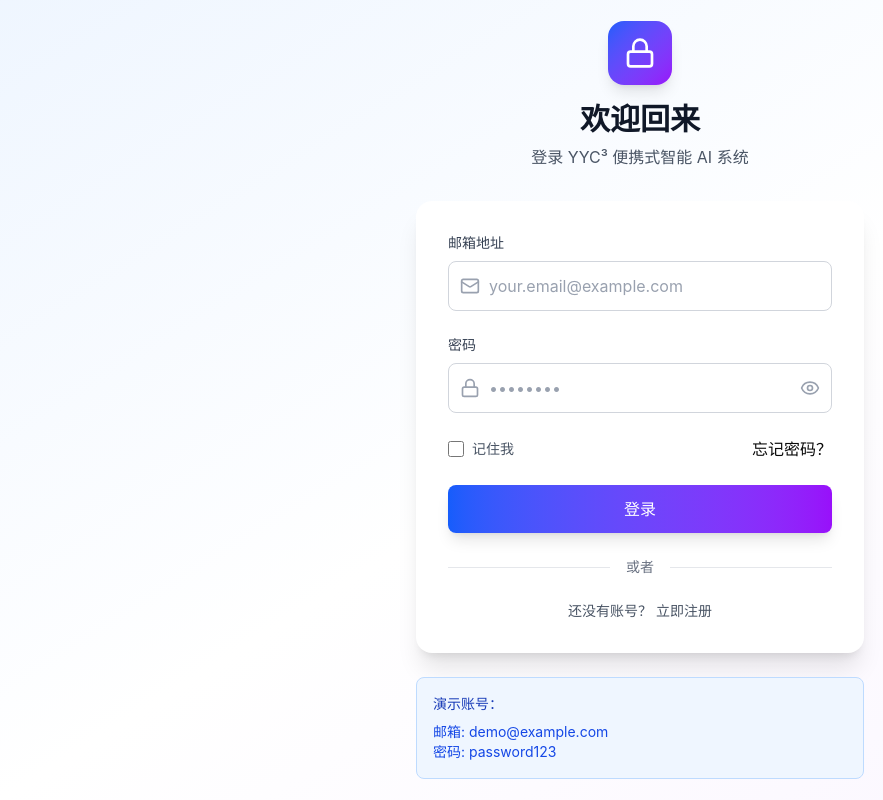
Test case: LoginPage › 应该验证密码长度
The width and height of the screenshot is (883, 800).
Type "demo@example.com" into the field with placeholder "your.email@example.com" at (640, 286), box [448, 261, 832, 311]
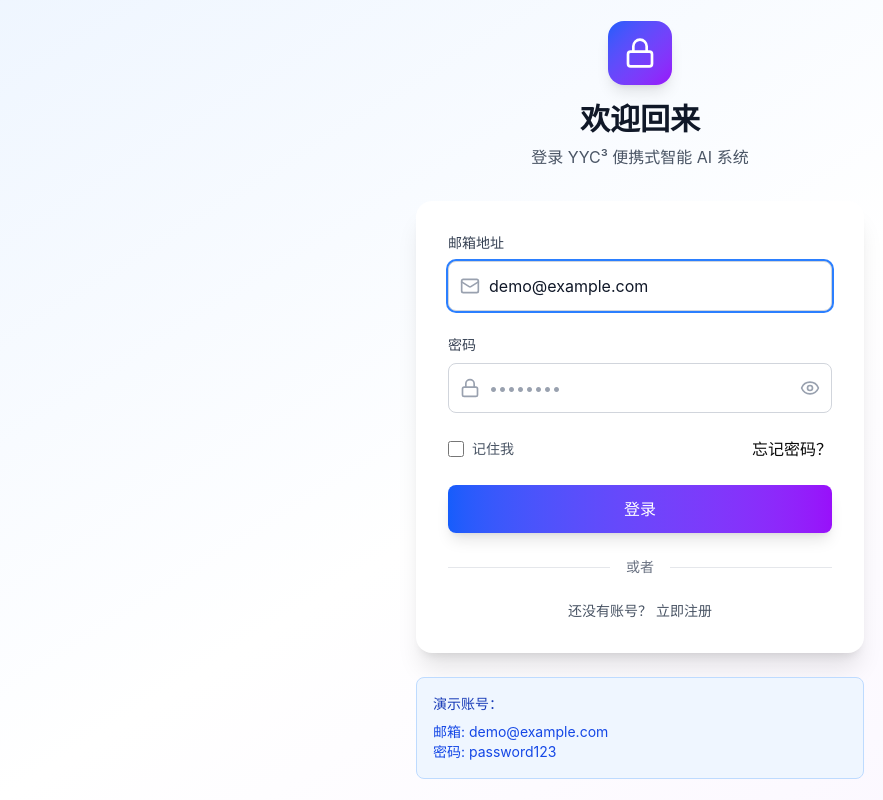
Type "12345" into the password field with placeholder "••••••••" at (640, 388), box [448, 363, 832, 413]
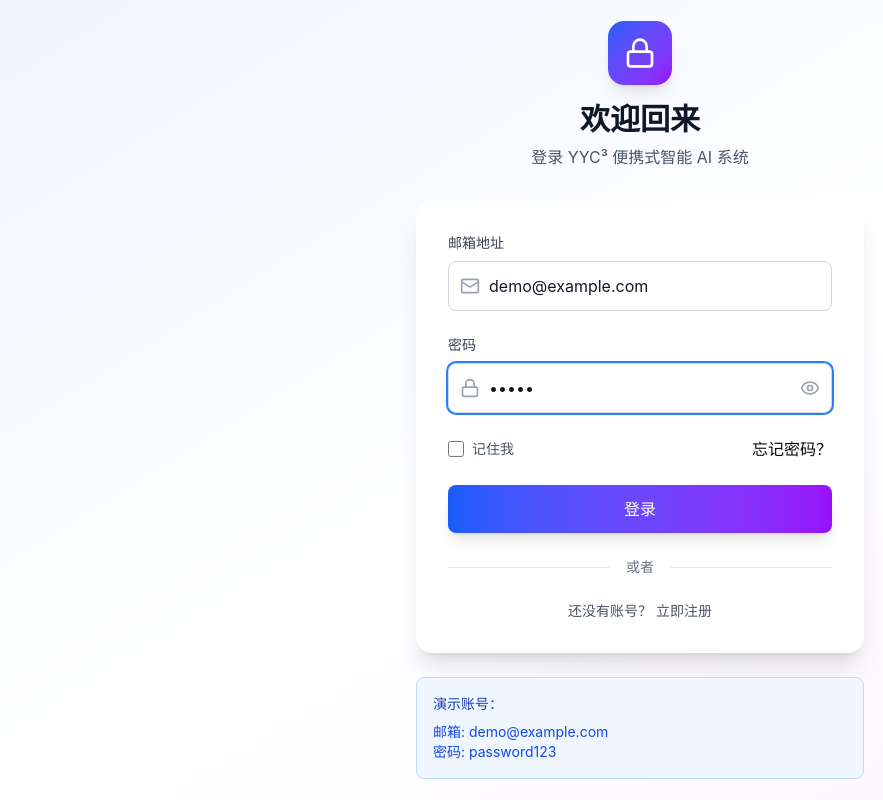
Click the button "登录" at (640, 509), box [448, 485, 832, 533]
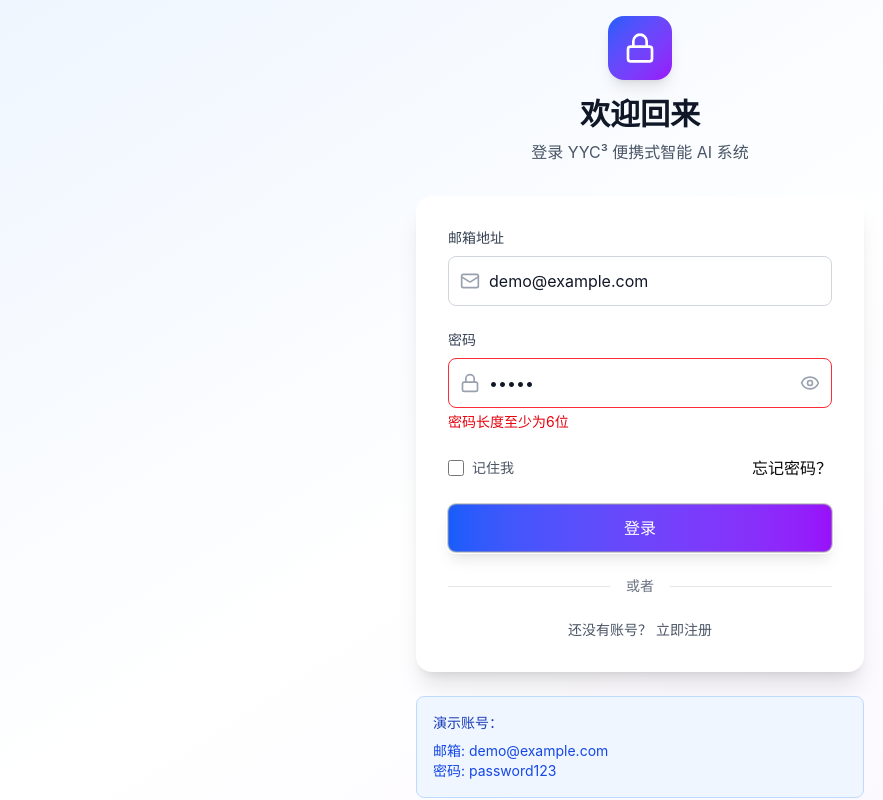
Result: the text "密码长度至少为6位" is shown at [448, 413, 569, 430]
